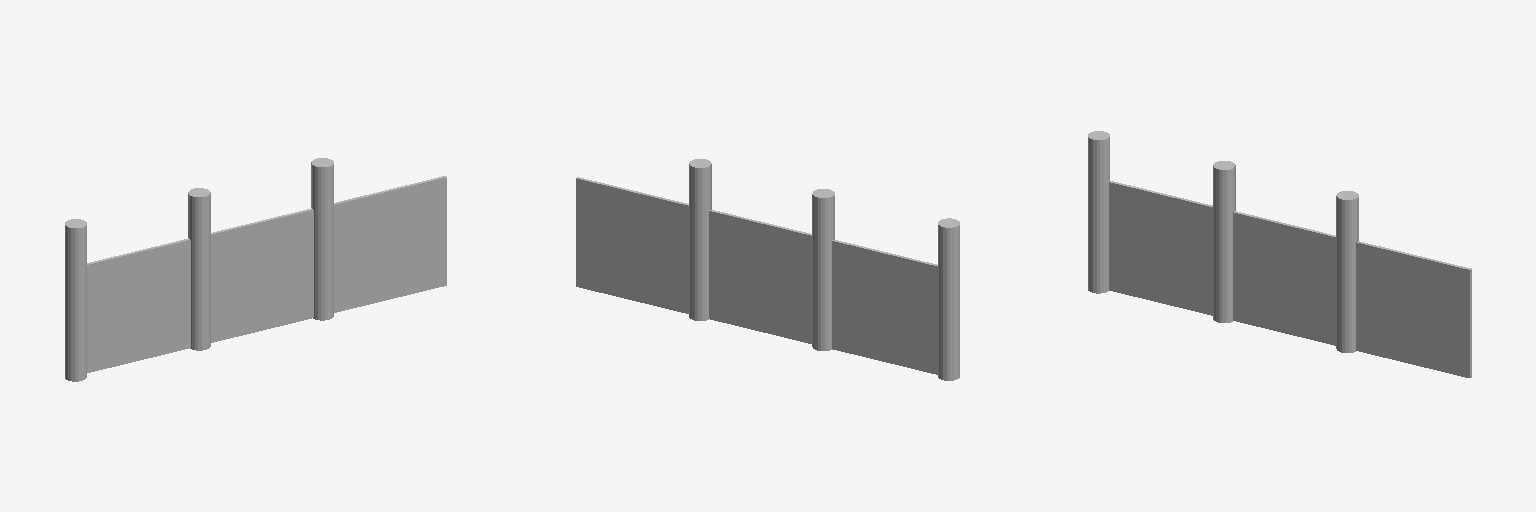
Rendered from walldouble3.obj.
The picture shows the model from 3 angles: view 1: azimuth 30°, elevation 25°; view 2: azimuth 150°, elevation 25°; view 3: azimuth 330°, elevation 25°; orthographic projection.
Parts seen in each view (by area): view 1: walldouble3; view 2: walldouble3; view 3: walldouble3.
Part boxes in pixels (x1,y1,x2,y2): walldouble3: (65,158,446,381); walldouble3: (576,159,959,380); walldouble3: (1088,131,1471,377).
Bounding box in the file's own units: 64.02 × 24.63 × 3.55.